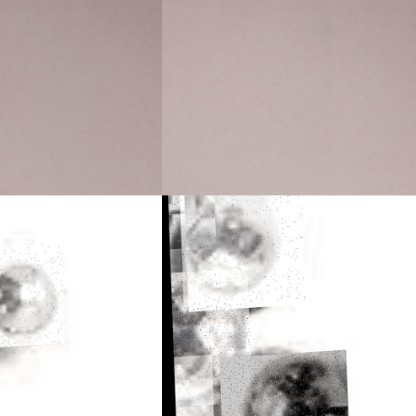ironball: (177, 195, 301, 307), (168, 268, 248, 407), (216, 351, 345, 415), (0, 247, 62, 351), (165, 195, 213, 249), (170, 355, 211, 415)
